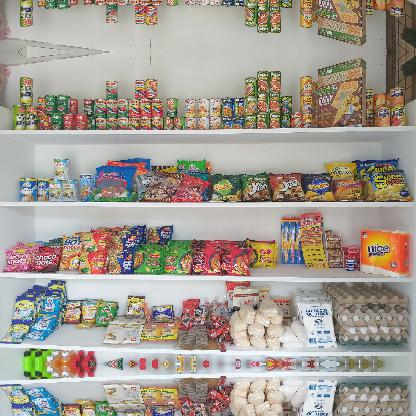Koko-Krunch: (317, 57, 365, 127), (317, 0, 366, 48)
